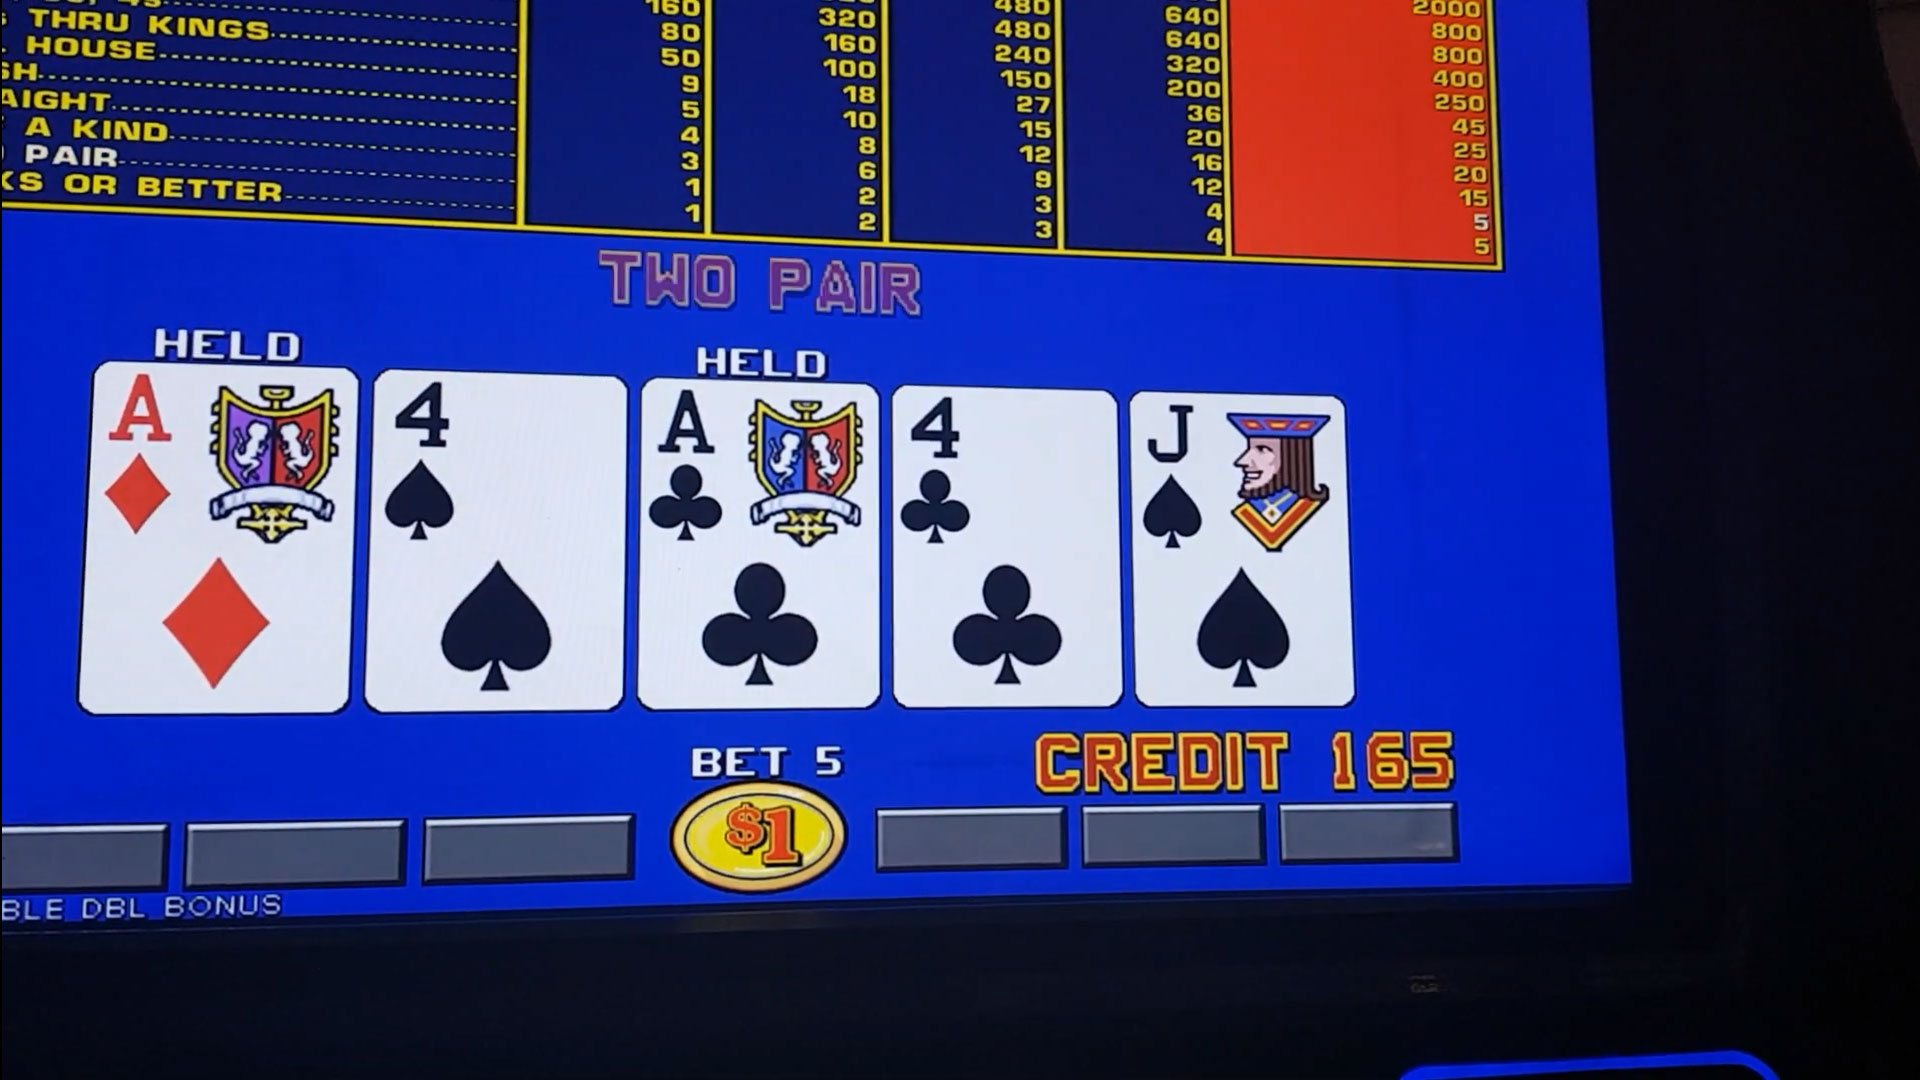C4: (891, 396, 1116, 549)
CA: (642, 382, 878, 549)
DA: (103, 369, 356, 543)
S4: (378, 381, 624, 549)
SJ: (1143, 405, 1338, 560)
